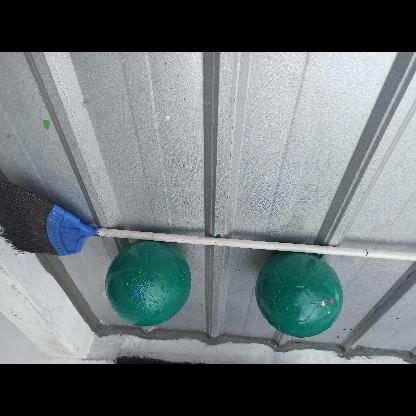green_ball: (257, 248, 347, 338), (106, 241, 192, 327)
